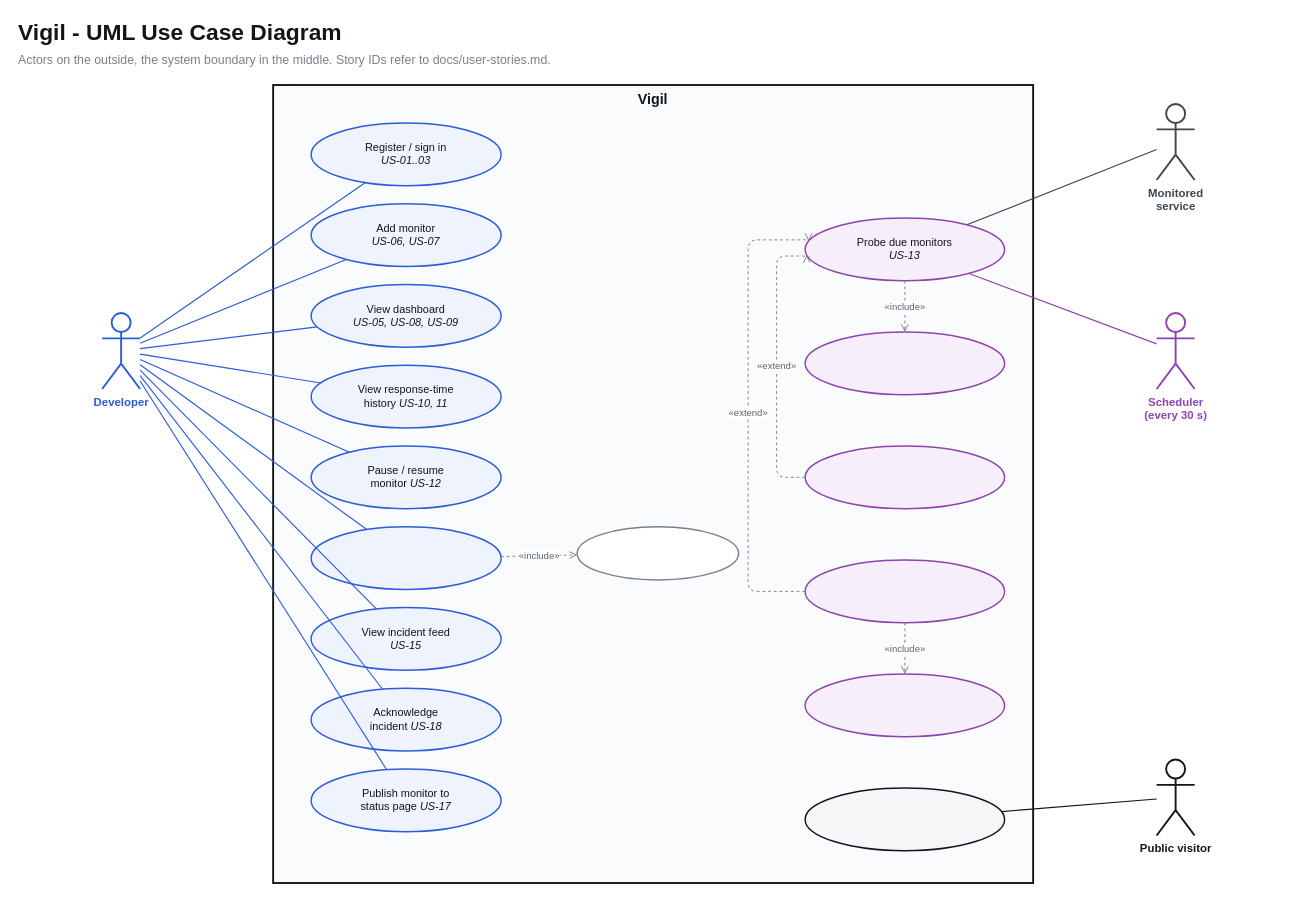
This 1305x900 diagram has some shape labels left out. Each missing label, with the centre of its shape:
Confirm deletion: point (657, 553)
Delete monitor US-12: point (405, 558)
Open incident after 2 failures: point (904, 477)
Record check: point (904, 363)
Resolve incident US-14: point (904, 591)
View public status page US-16: point (904, 819)
Write plain-English summary US-21: point (904, 705)
